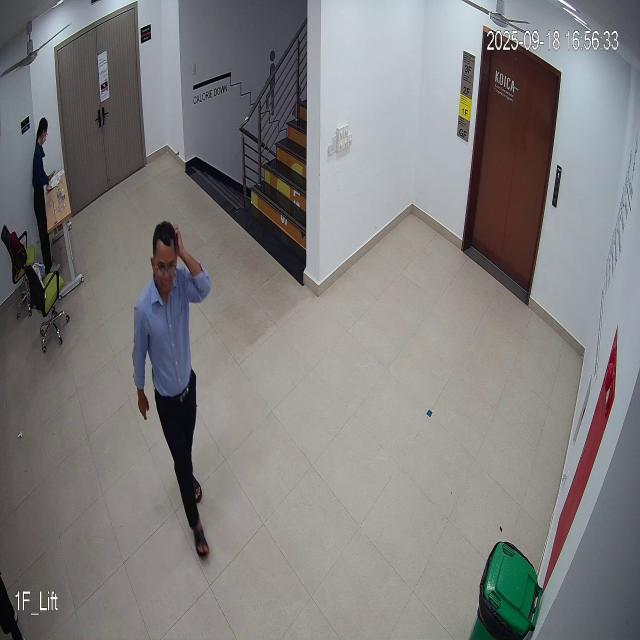face: (142, 220, 184, 298)
